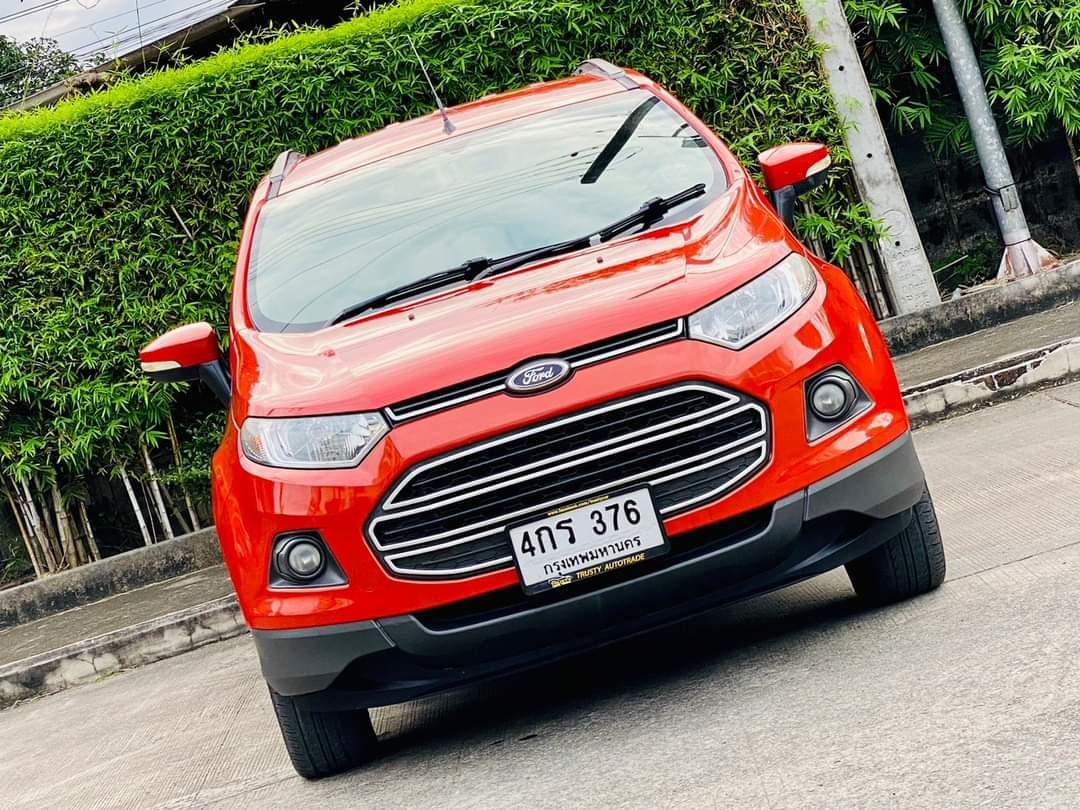license-plate: (502, 479, 669, 598)
